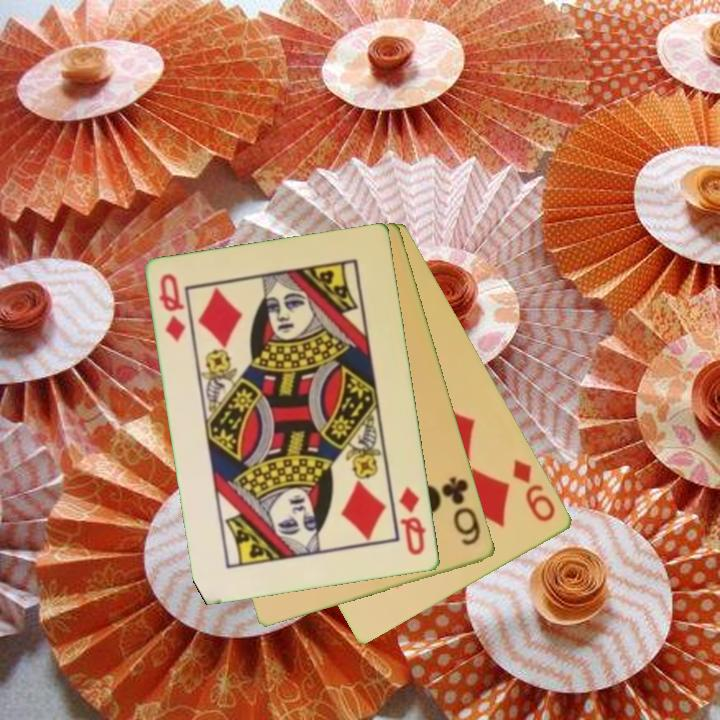6c: (438, 473, 484, 549)
9d: (509, 455, 559, 525)
Qd: (396, 484, 429, 559), (156, 270, 189, 345)
